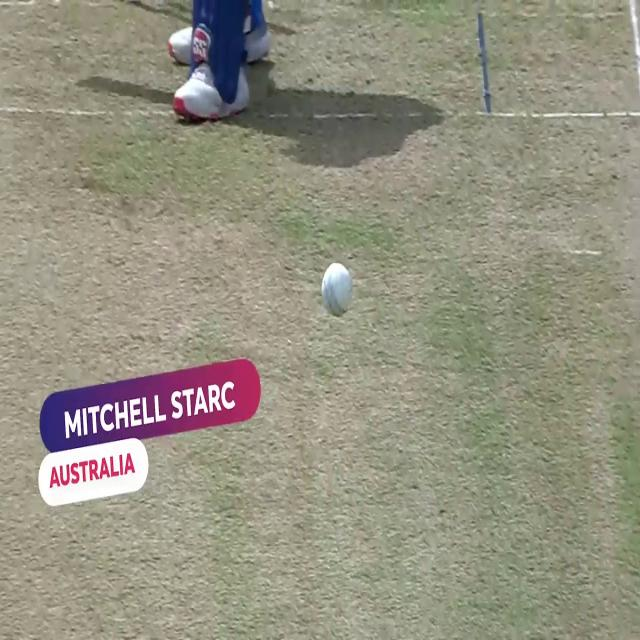ball: (318, 254, 362, 326)
